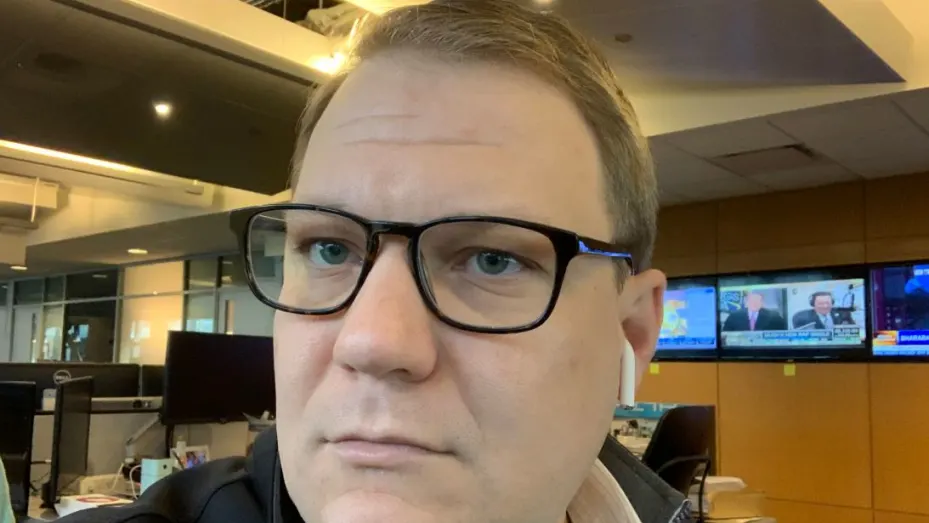earphone: (615, 268, 666, 410)
